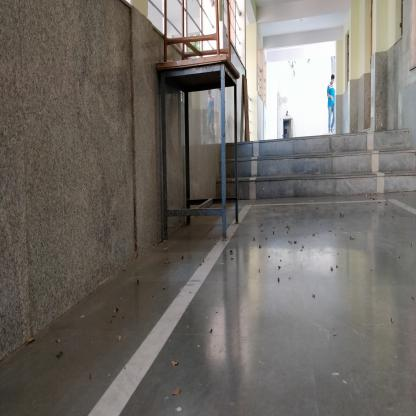stairs: (245, 138, 406, 201)
